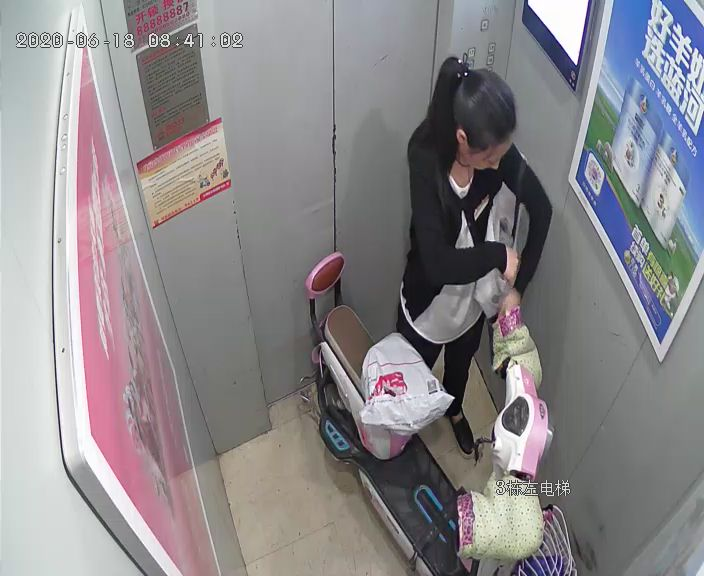Electric-bicycle: (296, 249, 576, 576)
